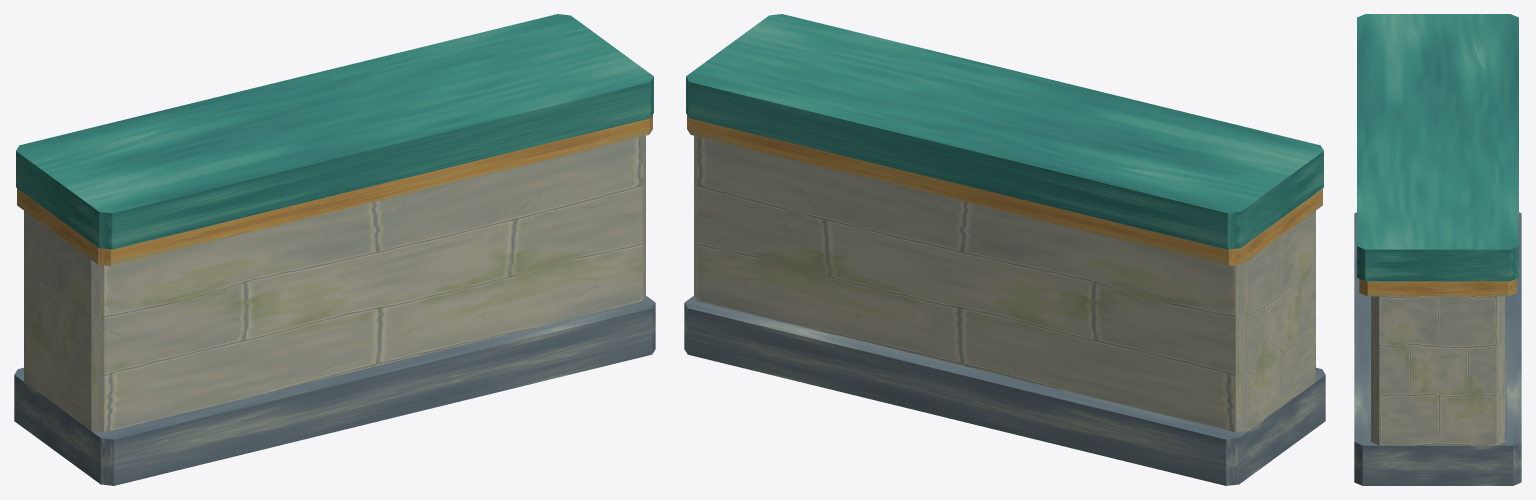
The model's file is Parapet4.fbx.
3 views of the same model, side by side, from view 1: azimuth 30°, elevation 25°; view 2: azimuth 150°, elevation 25°; view 3: azimuth 270°, elevation 25° (orthographic). The views are drawn at different scales.
Parts seen in each view (by area): view 1: Parapet4; view 2: Parapet4; view 3: Parapet4.
Part boxes in pixels (x1,y1,x2,y2): Parapet4: [14, 14, 655, 485]; Parapet4: [684, 14, 1325, 485]; Parapet4: [1354, 14, 1521, 485].
Bounding box in the file's own units: 400 × 187 × 120.
Materials: 1 (1 with a texture image).
